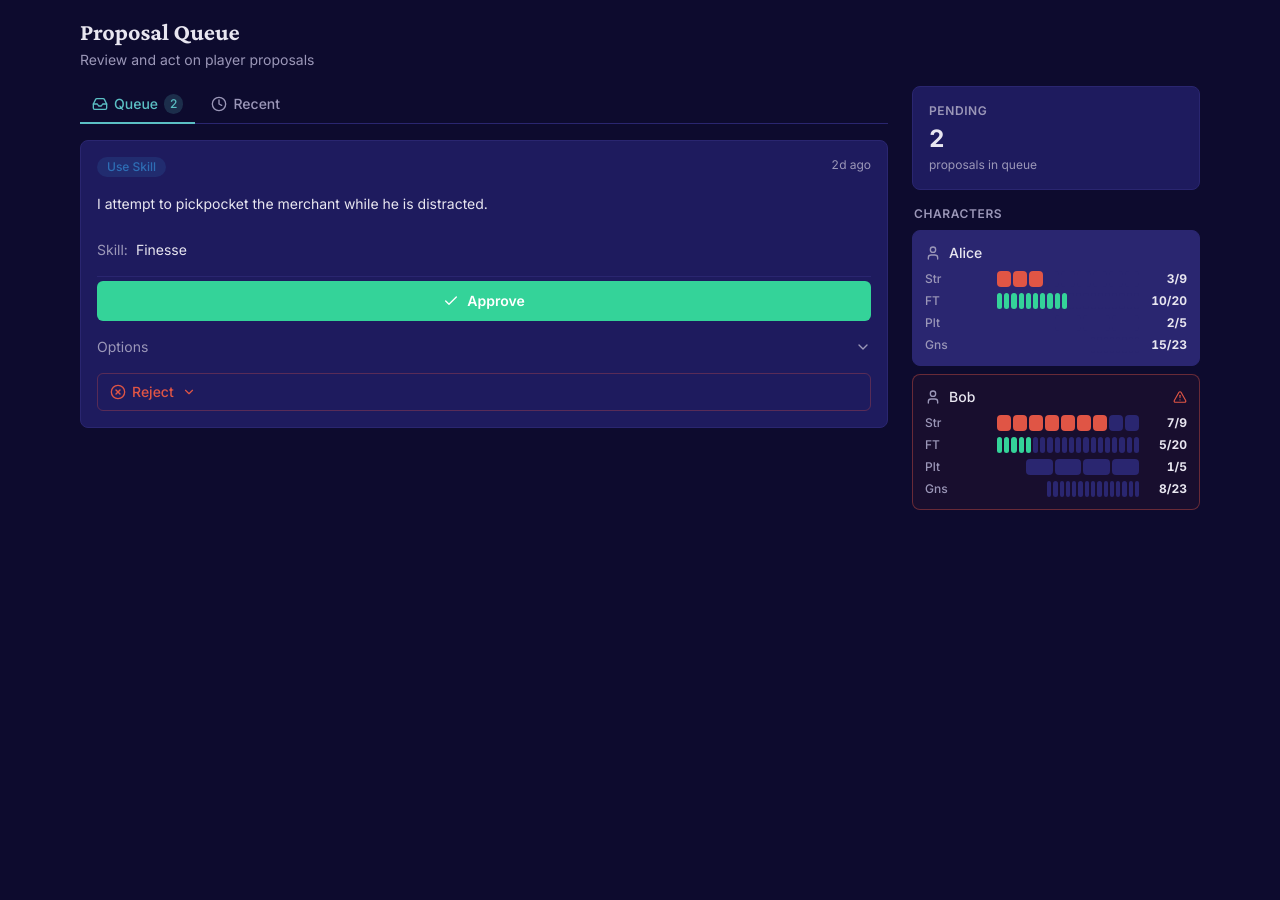
gm-queue: reject › confirming rejection with a note POSTs correct payload and shows toast
Click the button with aria-label "Reject proposal".
click(153, 391)  # box 97,373 -> 871,411
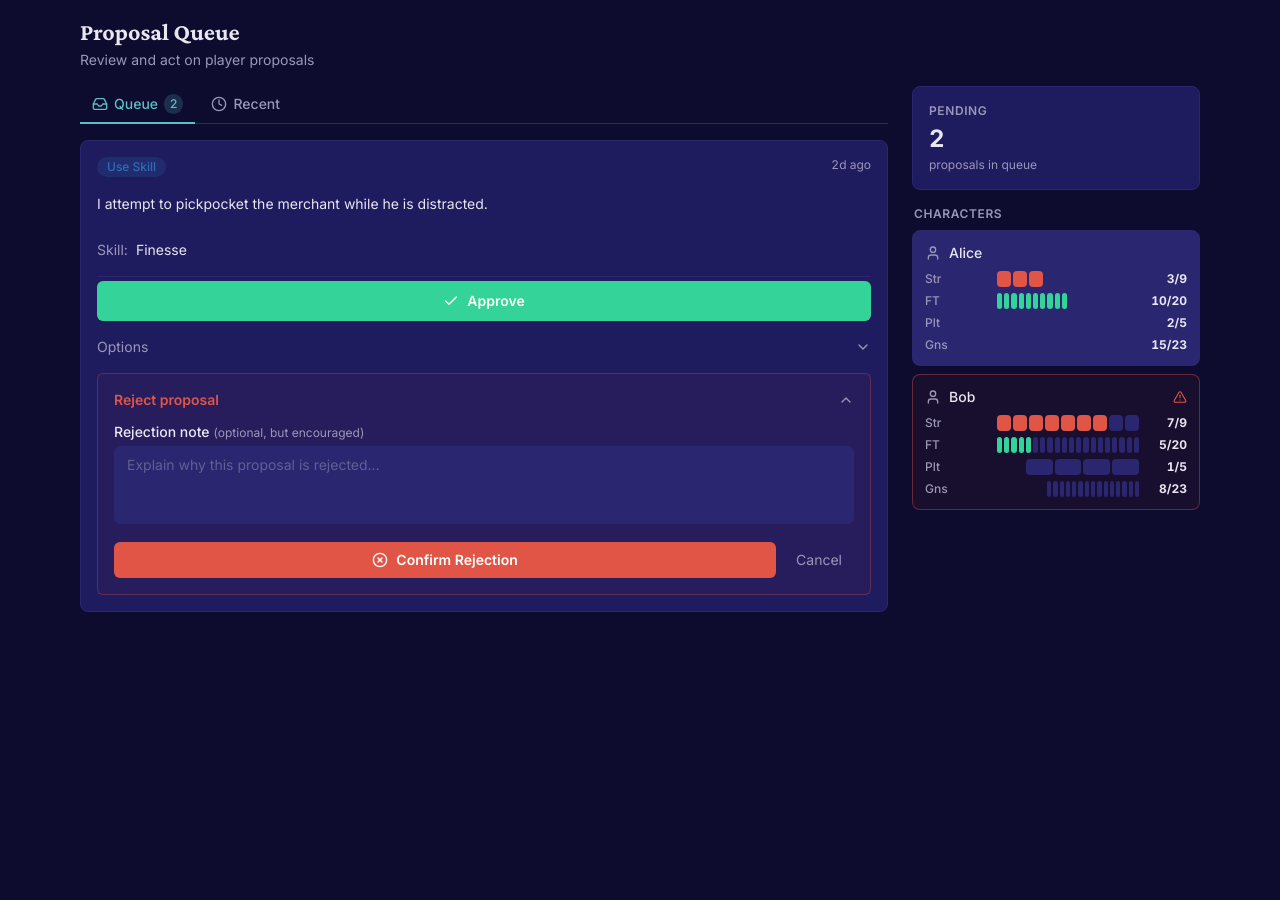
Type "Out of scope for this scene." into the text box labelled "Rejection note(optional, but encouraged)".
click(484, 485); type("Out of scope for this scene.")  # box 114,446 -> 854,524
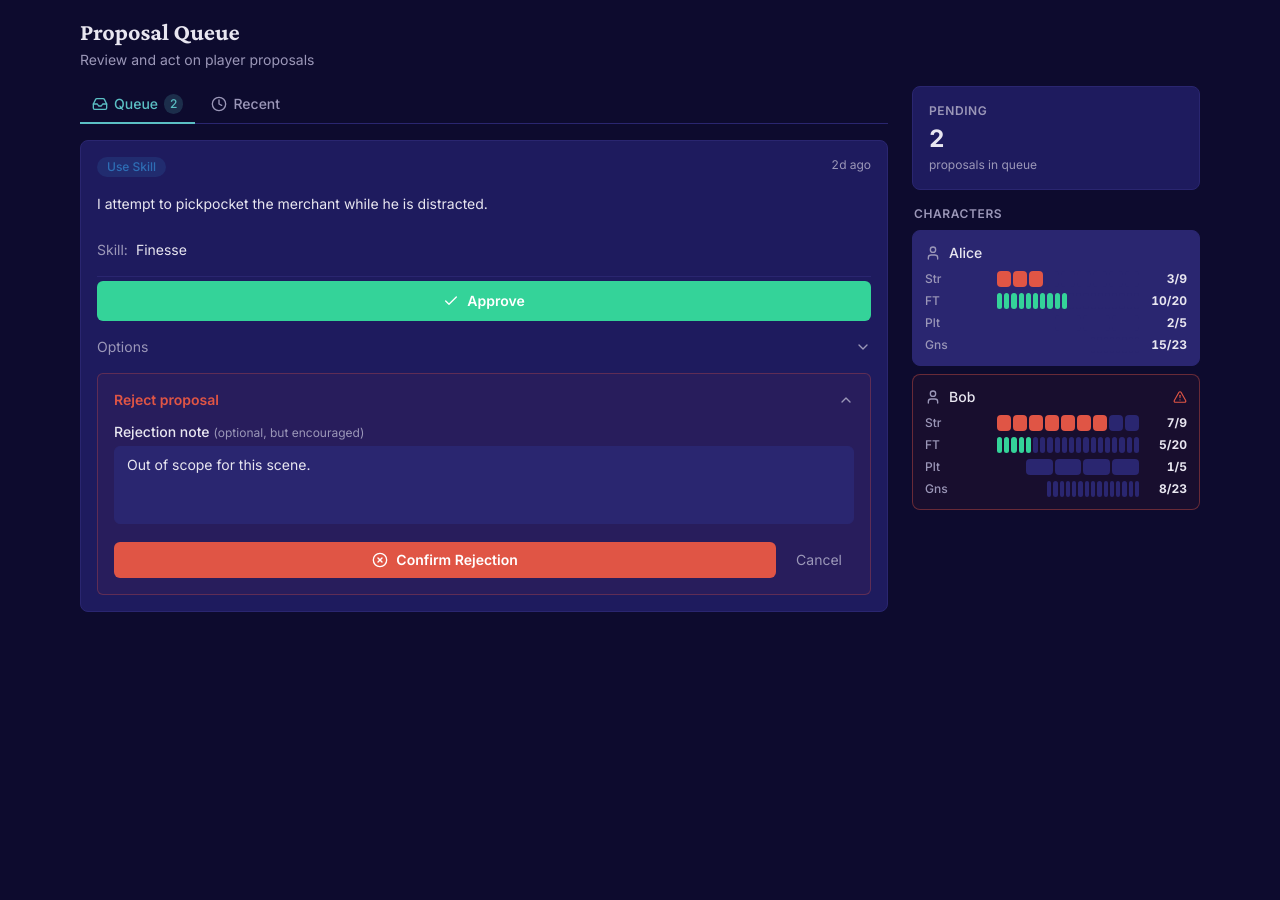
Click the button labelled "Confirm Rejection".
click(445, 560)  # box 114,542 -> 776,578
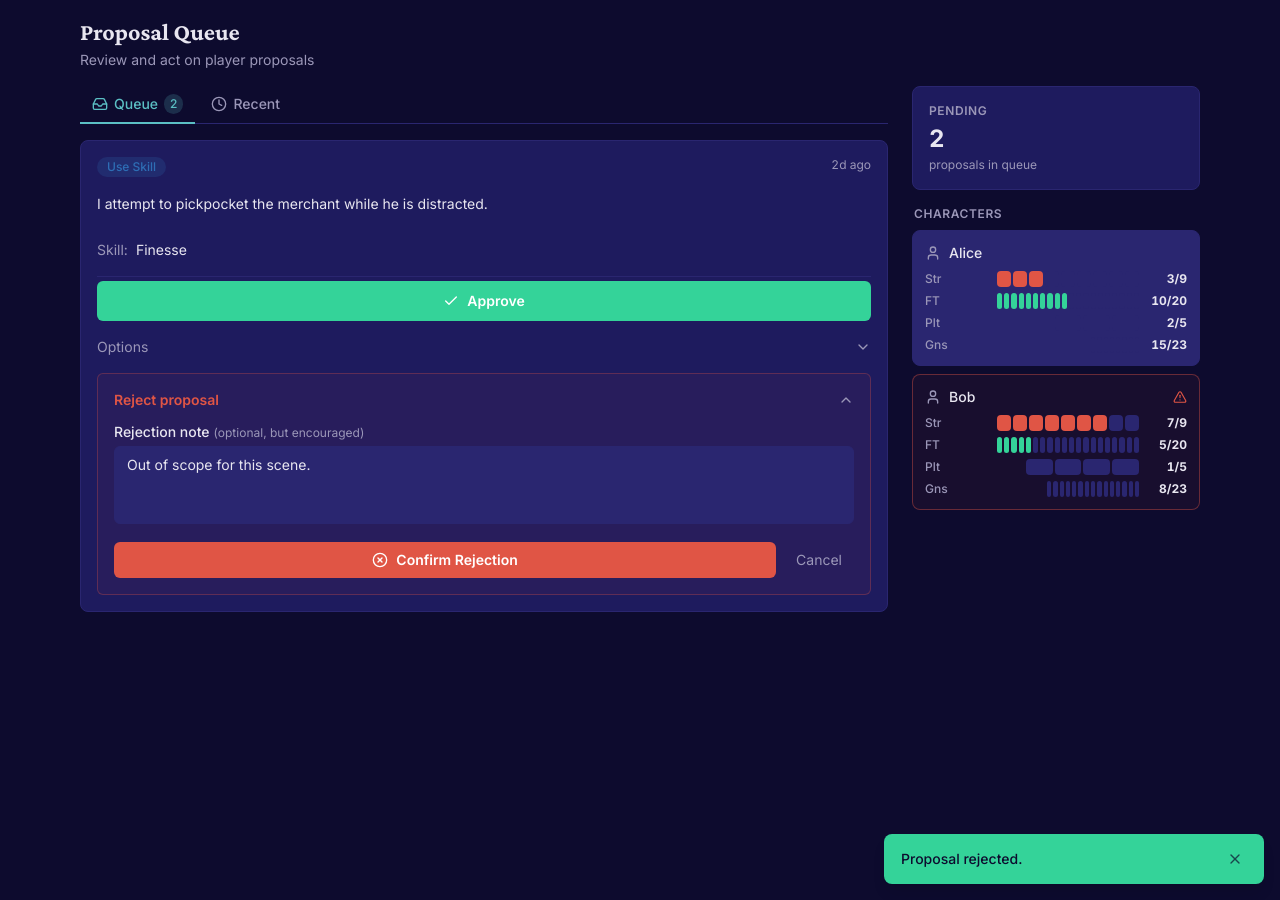
Result: the text "Proposal rejected." is shown at 901,849 -> 1022,869
